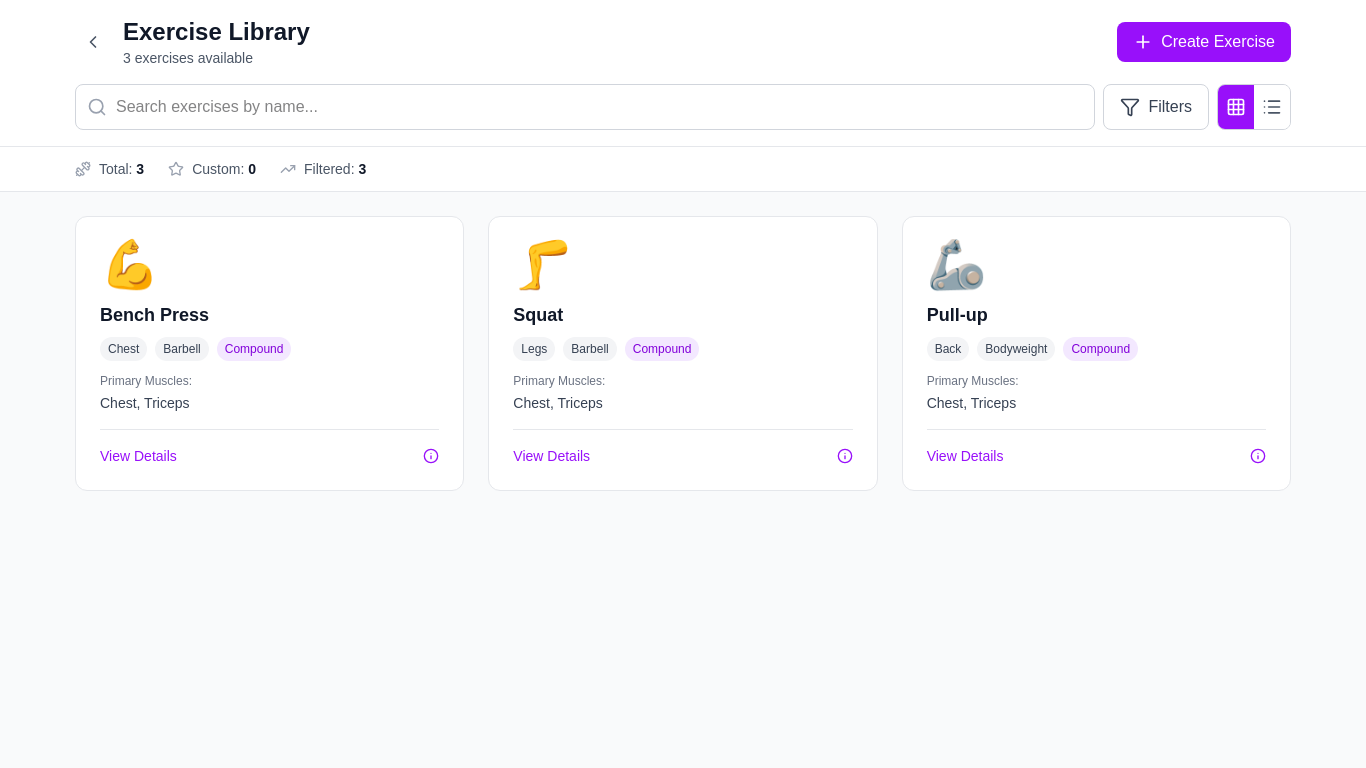
Test: Exercise Library Integration › Create Exercise Flow › should open create modal when button clicked
What coordinates should you click on to do the following:
click the button "Create Exercise"
I would click on:
 (1204, 42)
Its box is top-left (1117, 22), bottom-right (1291, 62).
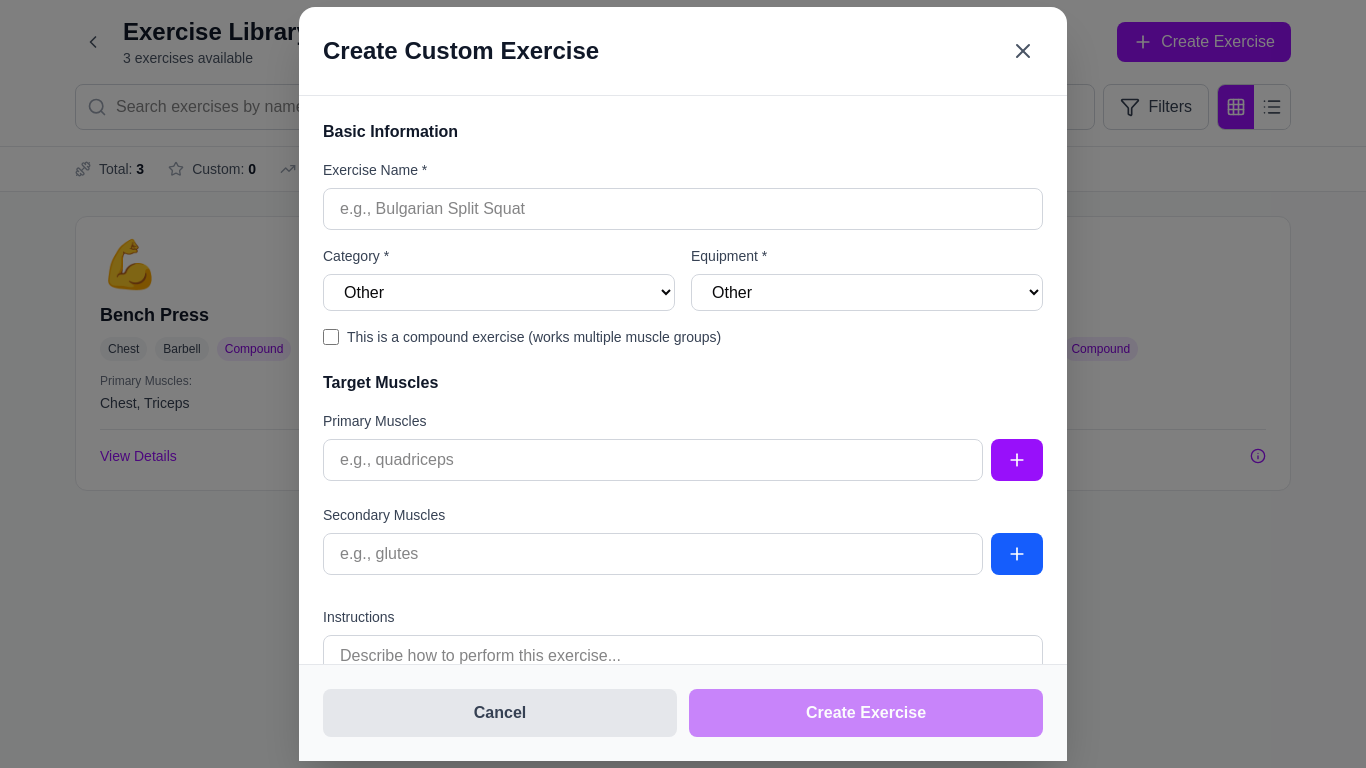
Expected: the heading "Create Custom Exercise" is shown, top-left (323, 35), bottom-right (599, 67)
